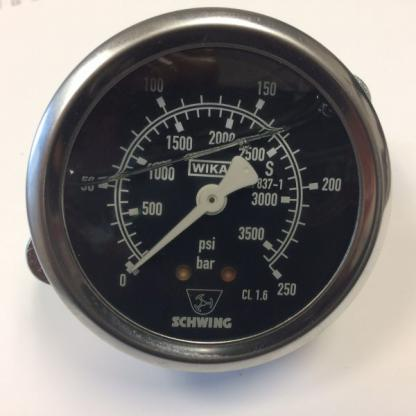needle: (128, 204, 207, 275)
